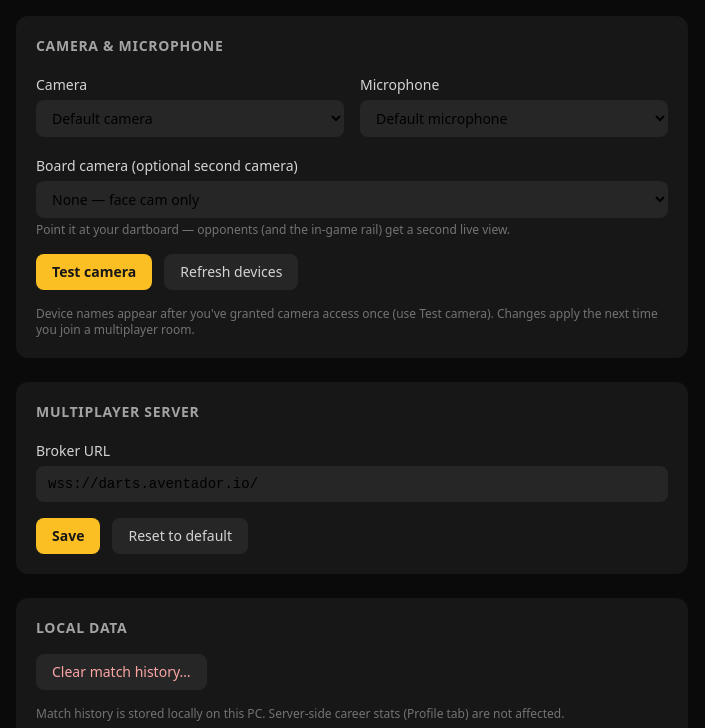
Scenario: Settings clear history › requires confirmation, then POSTs to the bridge
The image size is (705, 728).
Click the button "Clear match history…" at [121, 672], box [36, 654, 207, 690]
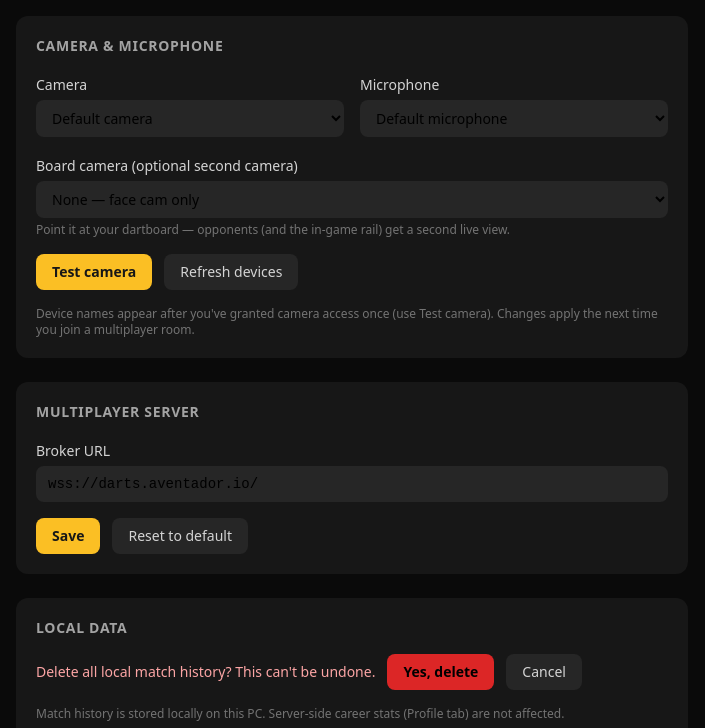
expect the text "Delete all local match history? This can't be undone." is shown: met, box [36, 662, 375, 682]
Click the button "Yes, delete" at [441, 672], box [387, 654, 494, 690]
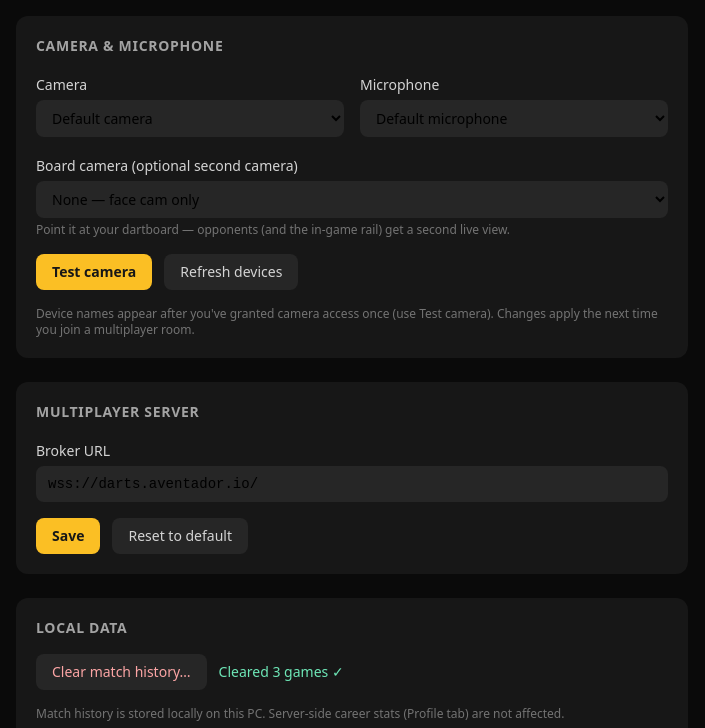
expect the message shows "Cleared 3 games": met, box [219, 662, 344, 682]
